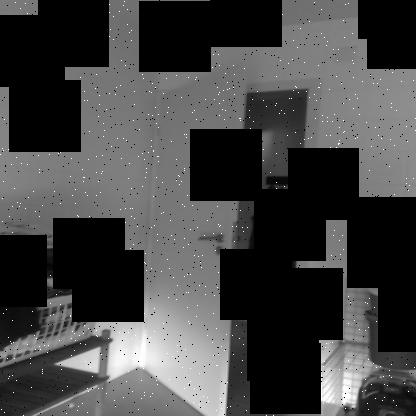Porte: (134, 60, 323, 415)
